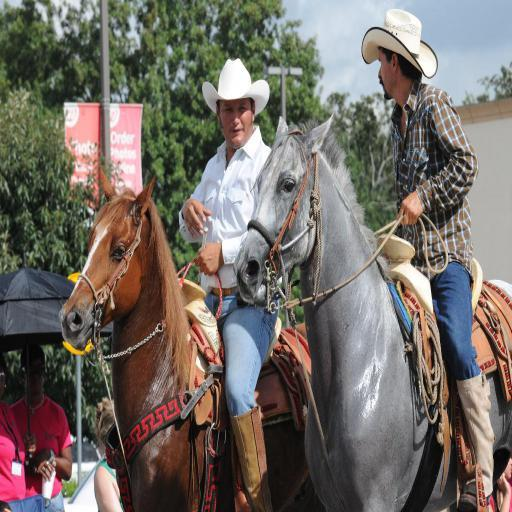Horse: (231, 114, 512, 512), (58, 166, 332, 512)
